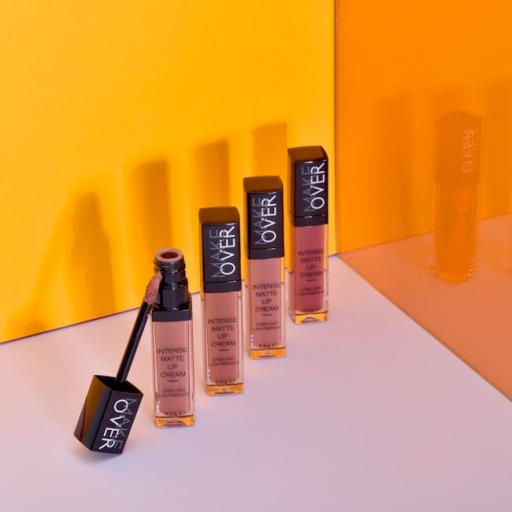lipstick: (75, 272, 162, 453), (199, 208, 243, 394), (244, 176, 285, 358), (153, 249, 194, 426), (288, 146, 328, 322)
